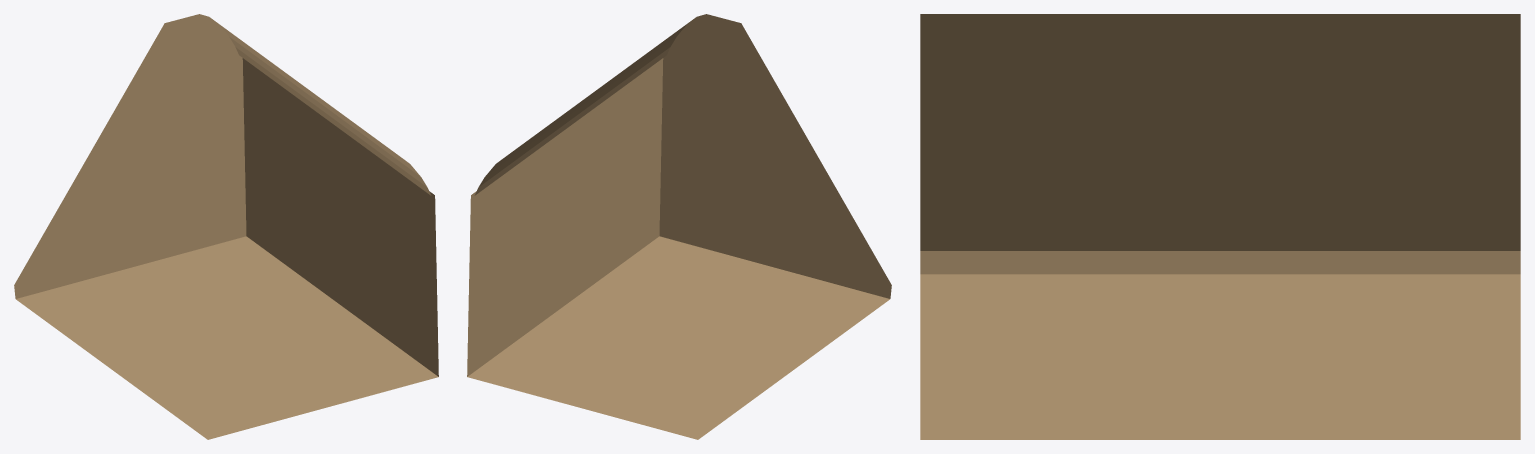
The picture shows the model from 3 angles, left to right: view 1: azimuth 30°, elevation 25°; view 2: azimuth 150°, elevation 25°; view 3: azimuth 270°, elevation 25°; orthographic projection. The views are drawn at different scales.
Parts seen in each view (by area): view 1: 0_0_1_2_0_0_1_0; view 2: 0_0_1_2_0_0_1_0; view 3: 0_0_1_2_0_0_1_0.
Boxes of the visible parts, <box> form: 0_0_1_2_0_0_1_0: <box>14,14,438,439</box>; 0_0_1_2_0_0_1_0: <box>467,14,891,439</box>; 0_0_1_2_0_0_1_0: <box>920,14,1520,439</box>.
Size of the model in its own units: 20.92 by 20.67 by 30.
